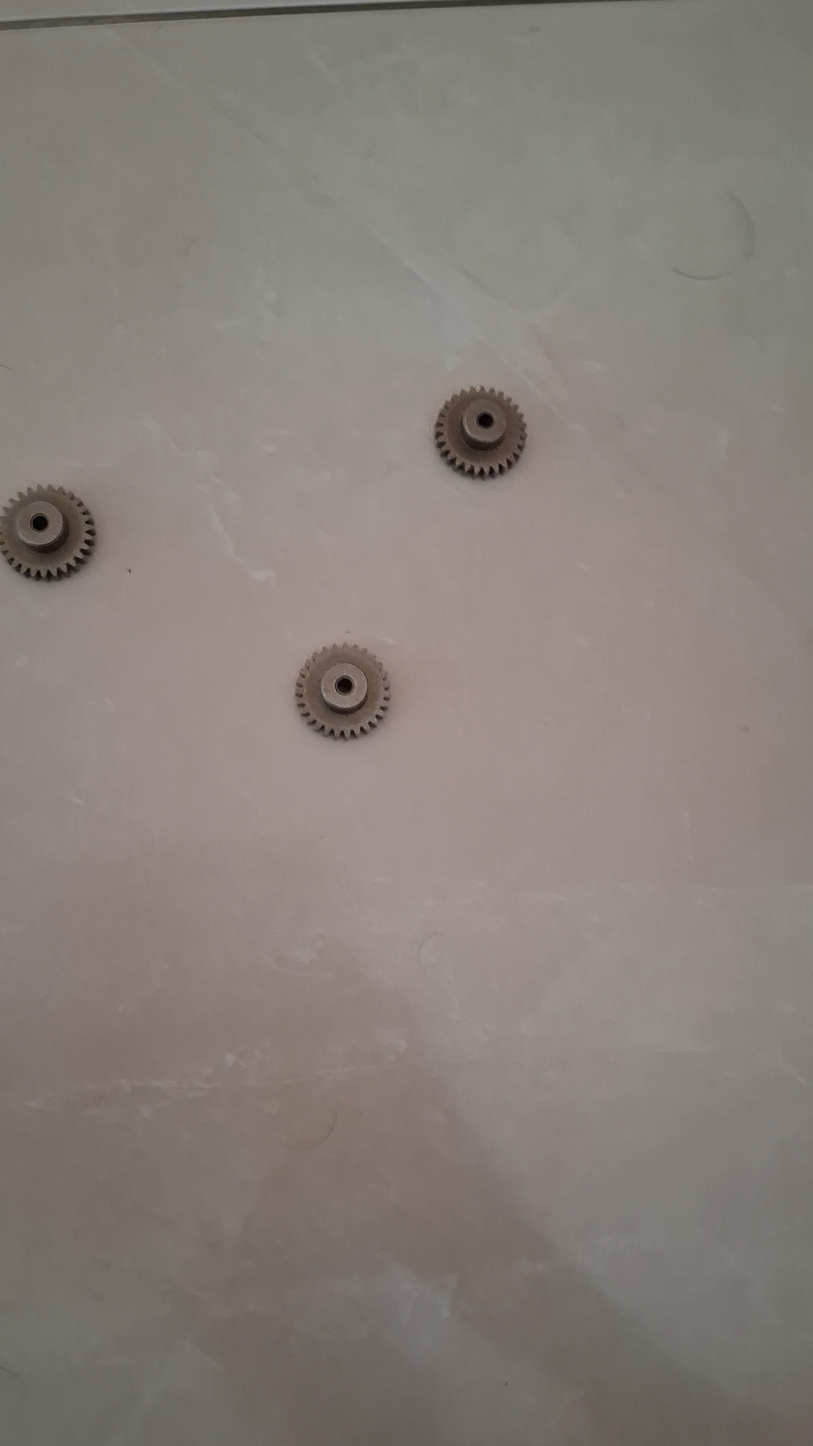spur gear: (295, 645, 390, 738), (0, 487, 95, 579), (435, 388, 526, 477)
